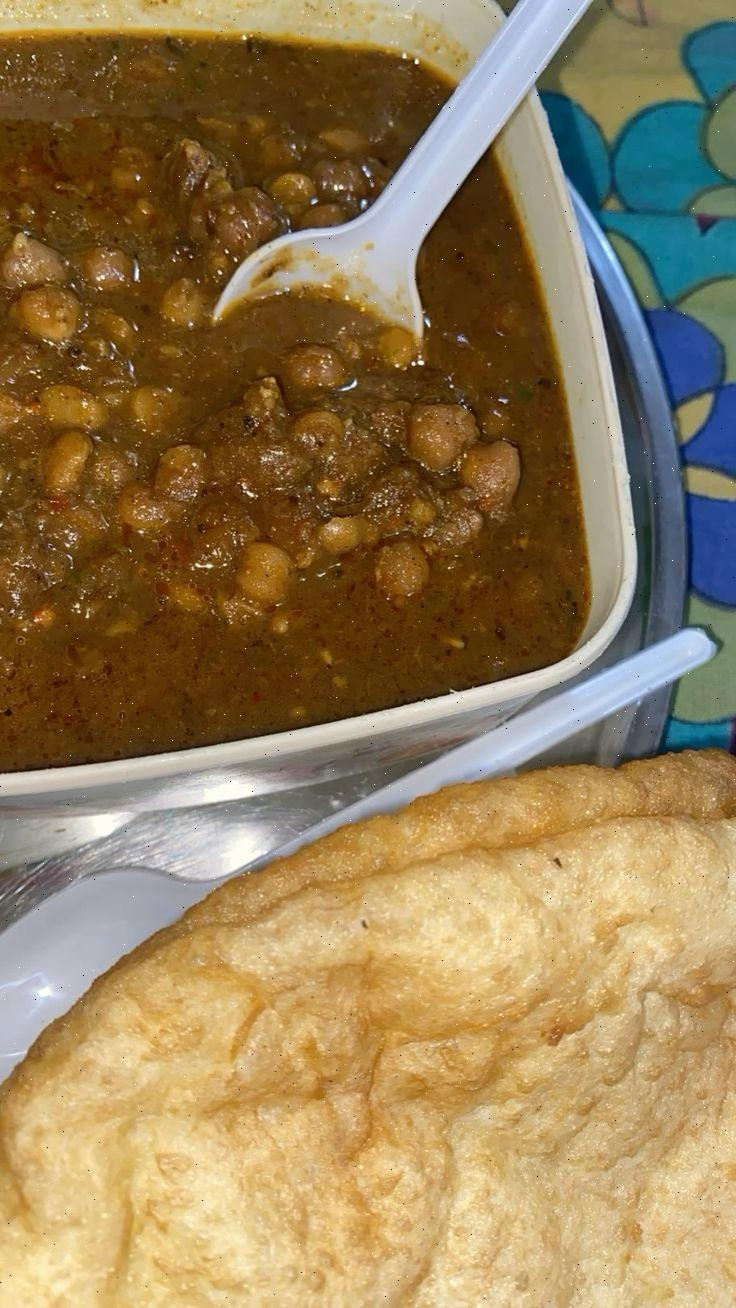chole: (47, 68, 594, 685)
puri: (47, 838, 736, 1308)
